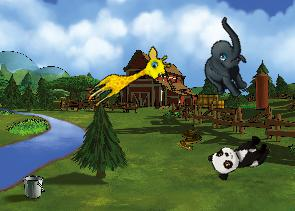elephant: (183, 16, 270, 105)
giraffe: (83, 42, 174, 118)
panda: (206, 129, 273, 183)
